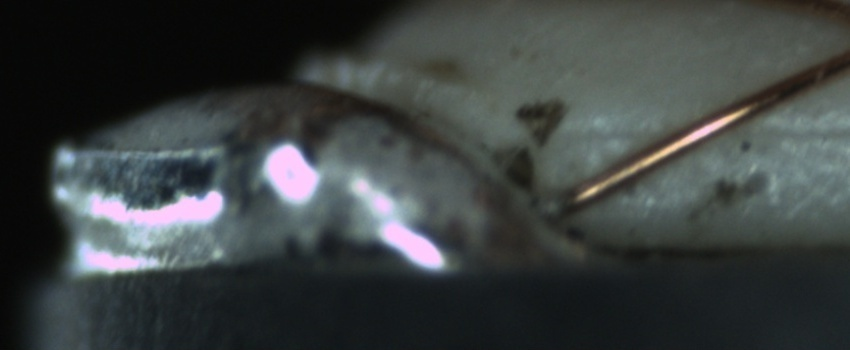DL: (574, 101, 848, 161)
